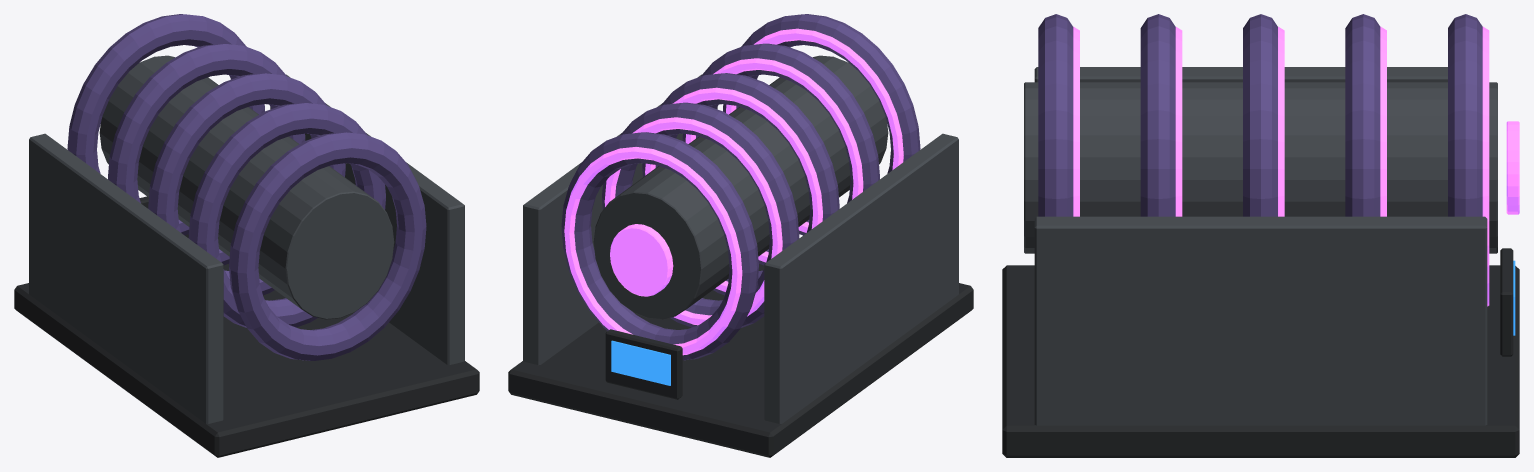
Rendered from jump_drive.glb.
3 views of the same model, side by side, from view 1: azimuth 30°, elevation 25°; view 2: azimuth 150°, elevation 25°; view 3: azimuth 270°, elevation 25° (orthographic). The views are drawn at different scales.
Visible parts, largest first — view 1: jump_drive; view 2: jump_drive; view 3: jump_drive.
Boxes of the visible parts, x1,y1,x2,y2 form: jump_drive: (14, 14, 479, 457); jump_drive: (508, 14, 973, 457); jump_drive: (1002, 14, 1519, 457).
Size of the model in its own units: 1.8 by 1.8 by 2.4.
